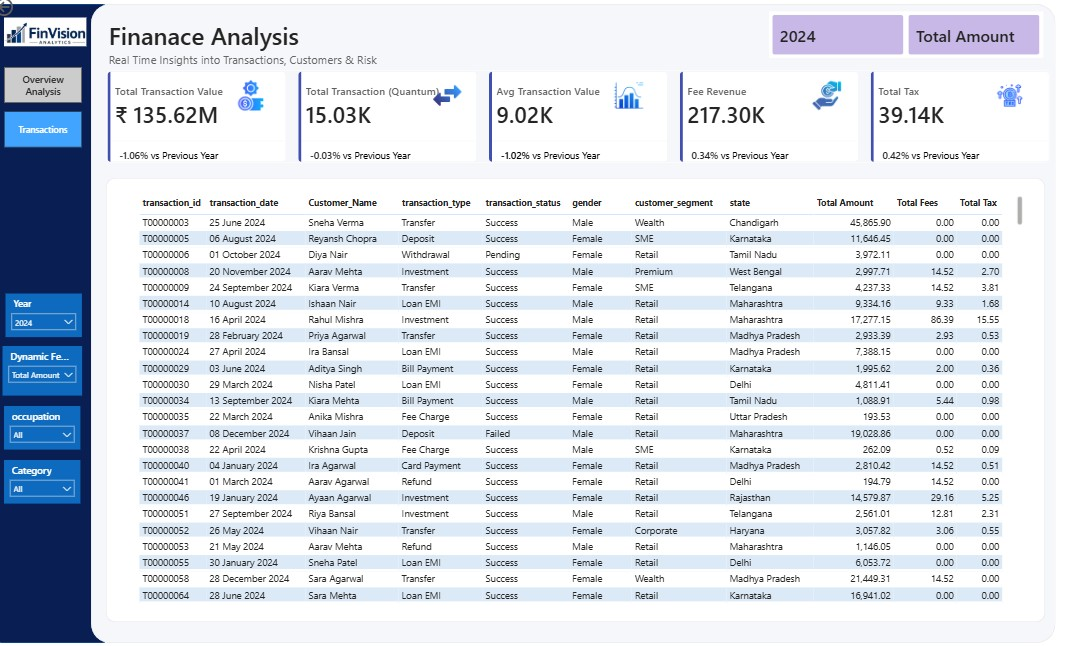

What the dashboard file says about the page in this screenshot:
{"tool":"powerbi","page":{"name":"Transactions","canvas":[1800,1100],"ordinal":1},"visuals":[{"type":"shape","box":[10,15,180,1065],"z":0},{"type":"shape","box":[165,15,1607.5,1065],"z":1000},{"type":"image","box":[20,17.5,137.5,87.5],"z":2000},{"type":"cardVisual","fields":{"Data":["finance_transactions.Dashboard Title","finance_transactions.Dashboard Title","finance_transactions.Dashboard Title"]},"box":[178.3,16.7,505,125],"z":3000},{"type":"cardVisual","fields":{"Data":["finance_transactions.Total Amount","finance_transactions.Total Transaction","finance_transactions.Avg Transaction Value","finance_transactions.Total Fees","finance_transactions.Total Tax"]},"box":[185,120,1587.5,165],"z":4000},{"type":"image","box":[404,142,52,50],"z":5000},{"type":"image","box":[732,142,52,50],"z":6000},{"type":"image","box":[1364,142,52,50],"z":7000},{"type":"image","box":[1036,142,52,50],"z":8000},{"type":"image","box":[1670,142,52,50],"z":9000},{"type":"shape","box":[190,305,1565,740],"z":10000},{"type":"cardVisual","fields":{"Data":["Dynamic Feilds.Selected Dynamic Year","Dynamic Feilds.Selected Dynamic Measure"]},"box":[1295,27.5,457.5,77.5],"z":11000},{"type":"tableEx","fields":{"Values":["finance_transactions.transaction_id","finance_transactions.transaction_date","customers.Customer_Name","finance_transactions.transaction_type","finance_transactions.transaction_status","customers.gender","customers.customer_segment","customers.state","finance_transactions.Total Amount","finance_transactions.Total Fees","finance_transactions.Total Tax"]},"box":[240,330,1482.5,692.5],"z":12000},{"type":"actionButton","box":[0,0,100,40],"z":13000},{"type":"slicer","fields":{"Values":["Calender Table.Year"]},"box":[22.5,497.5,127.5,72.5],"z":14000},{"type":"slicer","fields":{"Values":["Dynamic Feilds.Dynamic Feilds"]},"box":[17.5,585,132.5,82.5],"z":15000},{"type":"slicer","fields":{"Values":["customers.occupation"]},"box":[20,685,127.5,72.5],"z":16000},{"type":"slicer","fields":{"Values":["finance_transactions.merchant_category"]},"box":[20,775,127.5,72.5],"z":17000},{"type":"pageNavigator","box":[20,120,130,135],"z":18000}]}

Visuals, with their boxes on the page's 1800x1100 design canvas (x1, y1, x2, y2). These are canvas units, not pixel positions in the 1066x646 screenshot, which may show the page scaled, cropped or inside an application window:
shape: select_region(10, 15, 190, 1080)
shape: select_region(165, 15, 1772, 1080)
image: select_region(20, 18, 158, 105)
cardVisual - finance_transactions.Dashboard Title x finance_transactions.Dashboard Title: select_region(178, 17, 683, 142)
cardVisual - finance_transactions.Total Amount x finance_transactions.Total Transaction: select_region(185, 120, 1772, 285)
image: select_region(404, 142, 456, 192)
image: select_region(732, 142, 784, 192)
image: select_region(1364, 142, 1416, 192)
image: select_region(1036, 142, 1088, 192)
image: select_region(1670, 142, 1722, 192)
shape: select_region(190, 305, 1755, 1045)
cardVisual - Dynamic Feilds.Selected Dynamic Year x Dynamic Feilds.Selected Dynamic Measure: select_region(1295, 28, 1752, 105)
tableEx - finance_transactions.transaction_id x finance_transactions.transaction_date: select_region(240, 330, 1722, 1022)
actionButton: select_region(0, 0, 100, 40)
slicer - Calender Table.Year: select_region(22, 498, 150, 570)
slicer - Dynamic Feilds.Dynamic Feilds: select_region(18, 585, 150, 668)
slicer - customers.occupation: select_region(20, 685, 148, 758)
slicer - finance_transactions.merchant_category: select_region(20, 775, 148, 848)
pageNavigator: select_region(20, 120, 150, 255)
